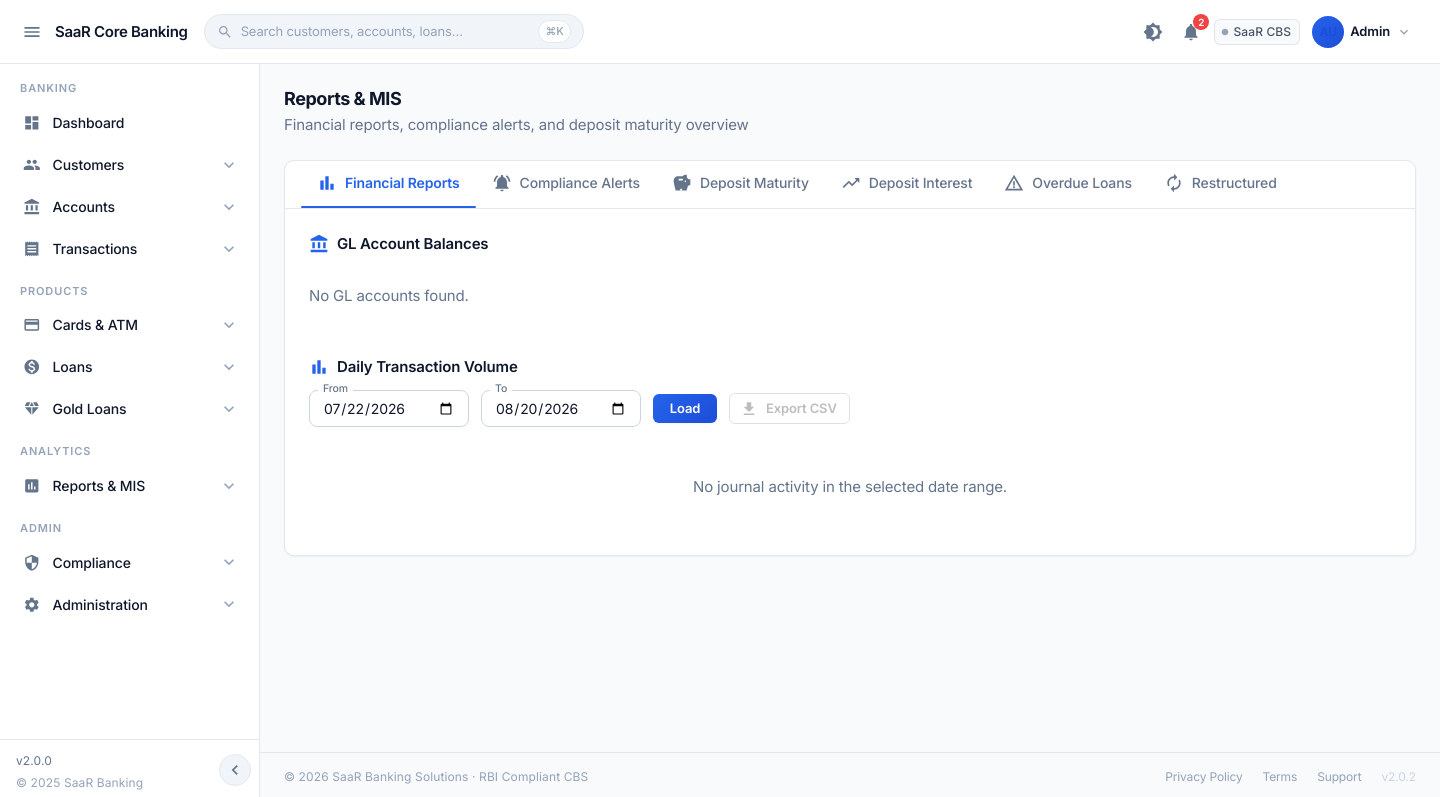
Test: [REGRESSION] Interest Fee Service — Deposit Interest Tab › T-7: Accrual summary chart renders when API returns data
Click the tab "Deposit Interest": (907, 183) [825,161,989,205]
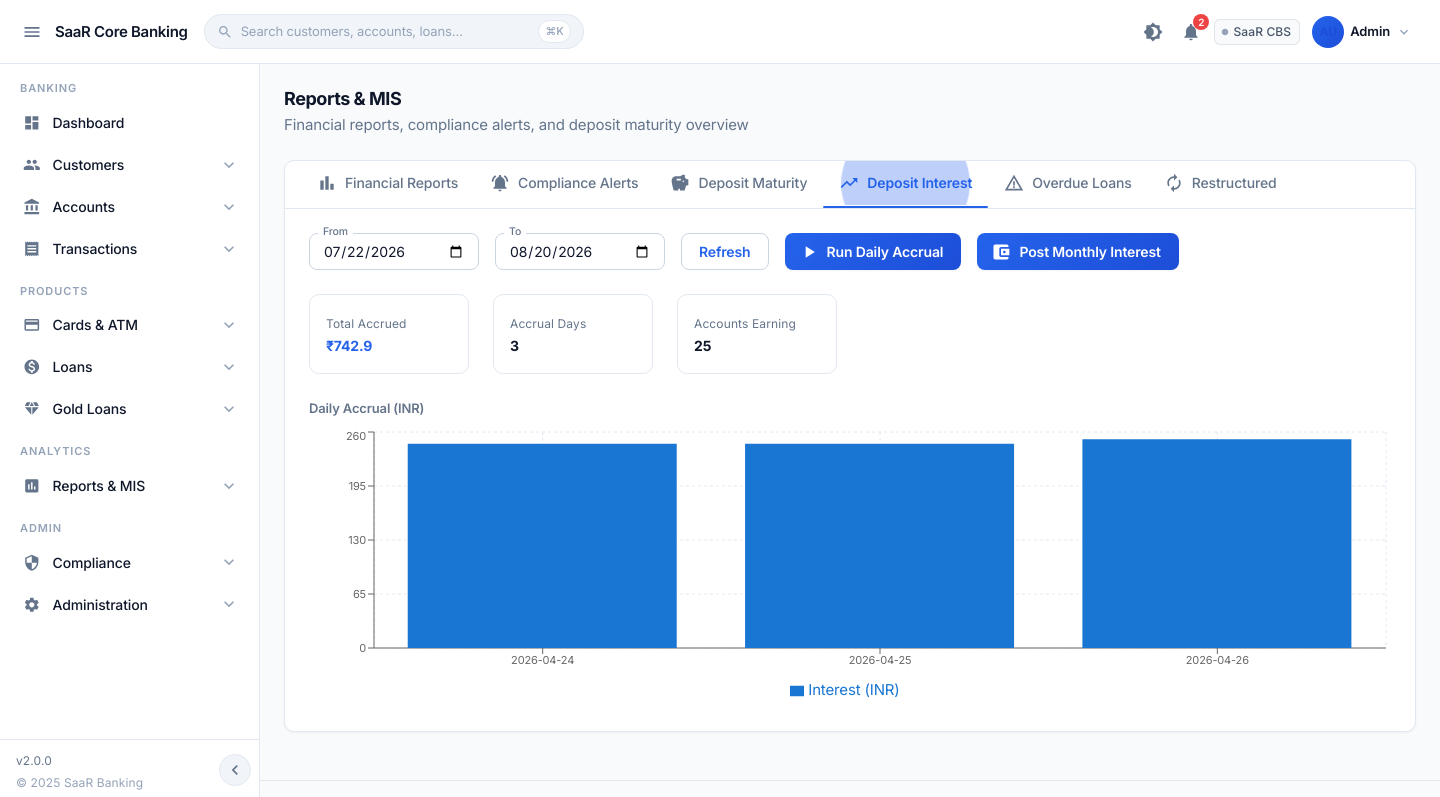
Result: the text "Total Accrued" is shown at [326,316,406,331]
